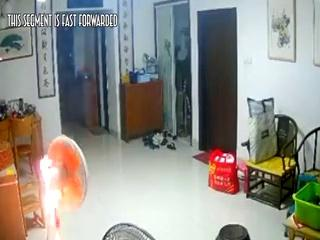Fire: (36, 150, 70, 236)
